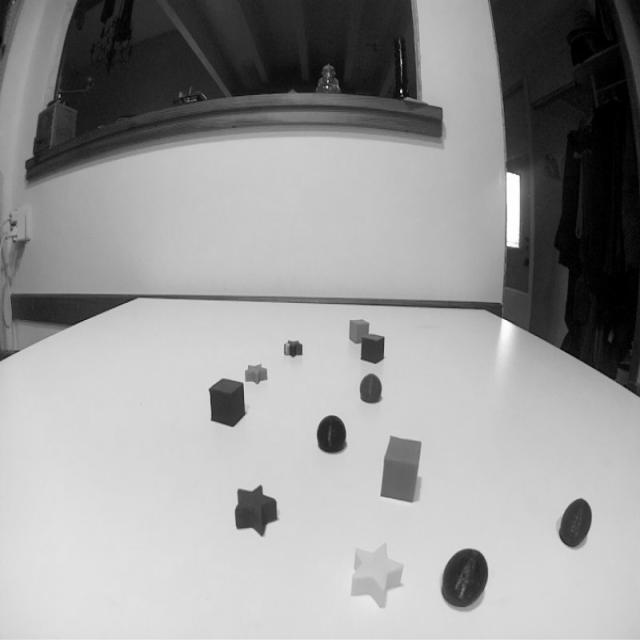ball: (438, 545, 491, 610), (555, 492, 594, 550), (314, 410, 349, 456), (356, 371, 384, 408)
cube: (380, 434, 424, 506), (208, 374, 247, 429), (360, 330, 385, 364), (348, 315, 371, 347)
star: (348, 539, 408, 615), (228, 478, 281, 541), (243, 363, 269, 386), (280, 337, 304, 361)
